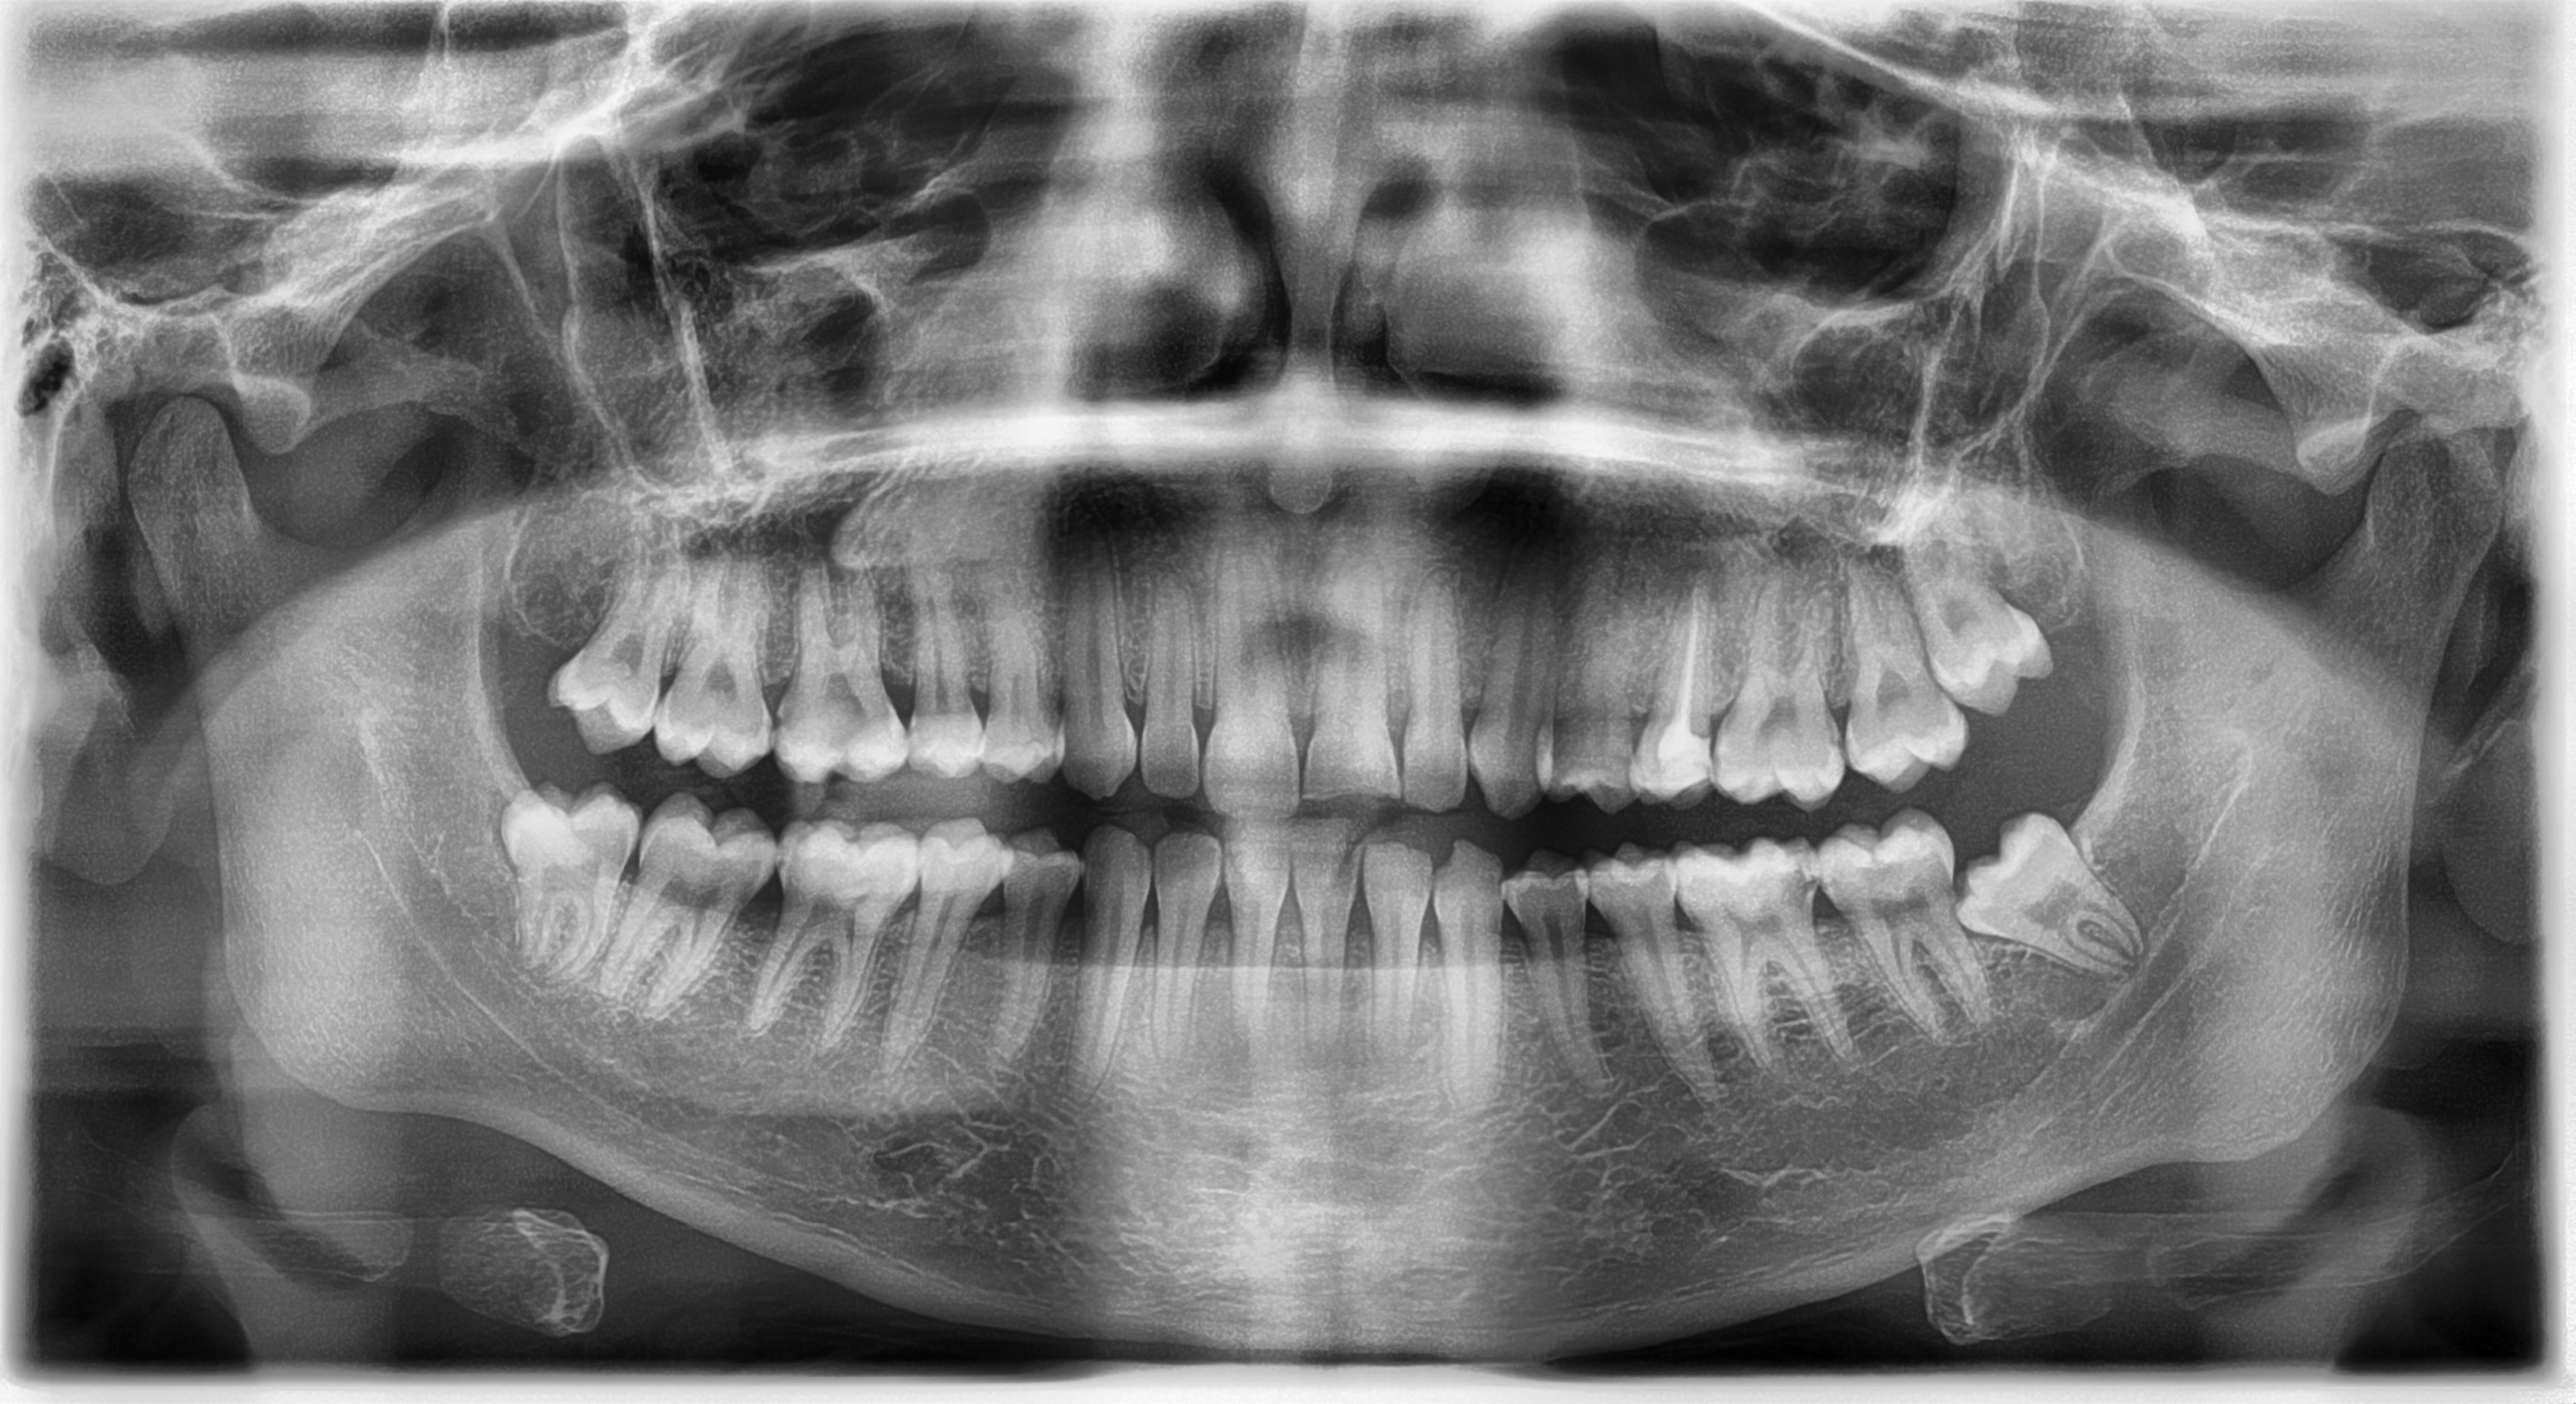cordal: (1926, 782, 2194, 1015), (472, 750, 652, 1008), (1879, 505, 2064, 742)
fractura: (1414, 818, 1537, 1003)
